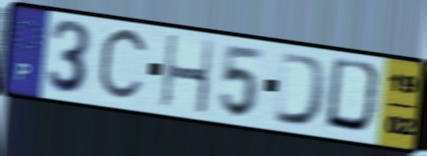3: (44, 19, 96, 98)
5: (218, 41, 266, 119)
C: (94, 24, 151, 105)
D: (322, 55, 388, 139), (271, 49, 330, 130)
H: (159, 32, 216, 117)
